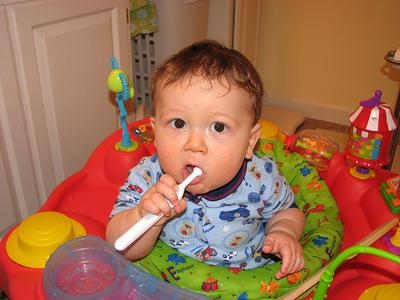person: (104, 36, 309, 276)
